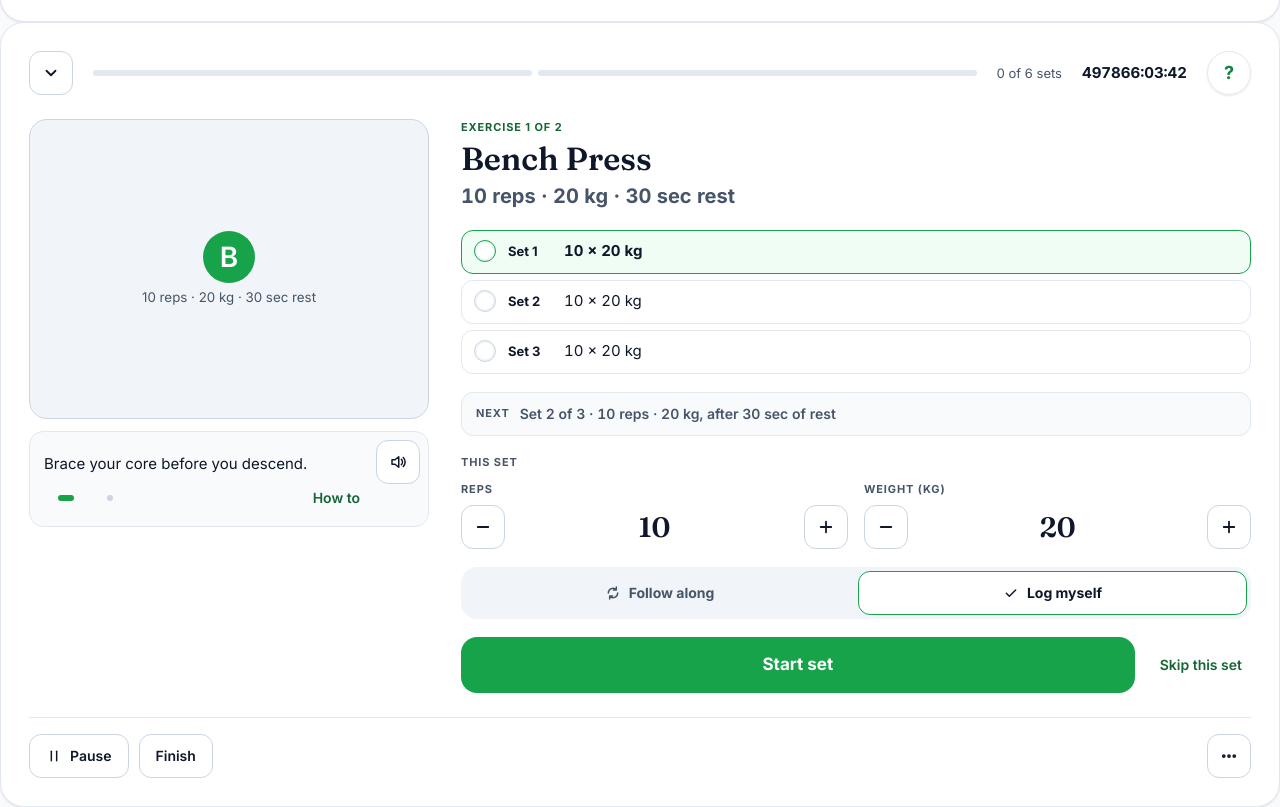
it: ExercisePlayerComponent › a session started from a weekly plan › working through the sets › counts three, two, one and Go after Start set, announcing each figure once, then the set is active
(page scrolled)
Click the button with class "start-set" below "Set 3". click: (798, 665)
box: [461,637,1135,693]
Wait 3400 ms
(page scrolled)
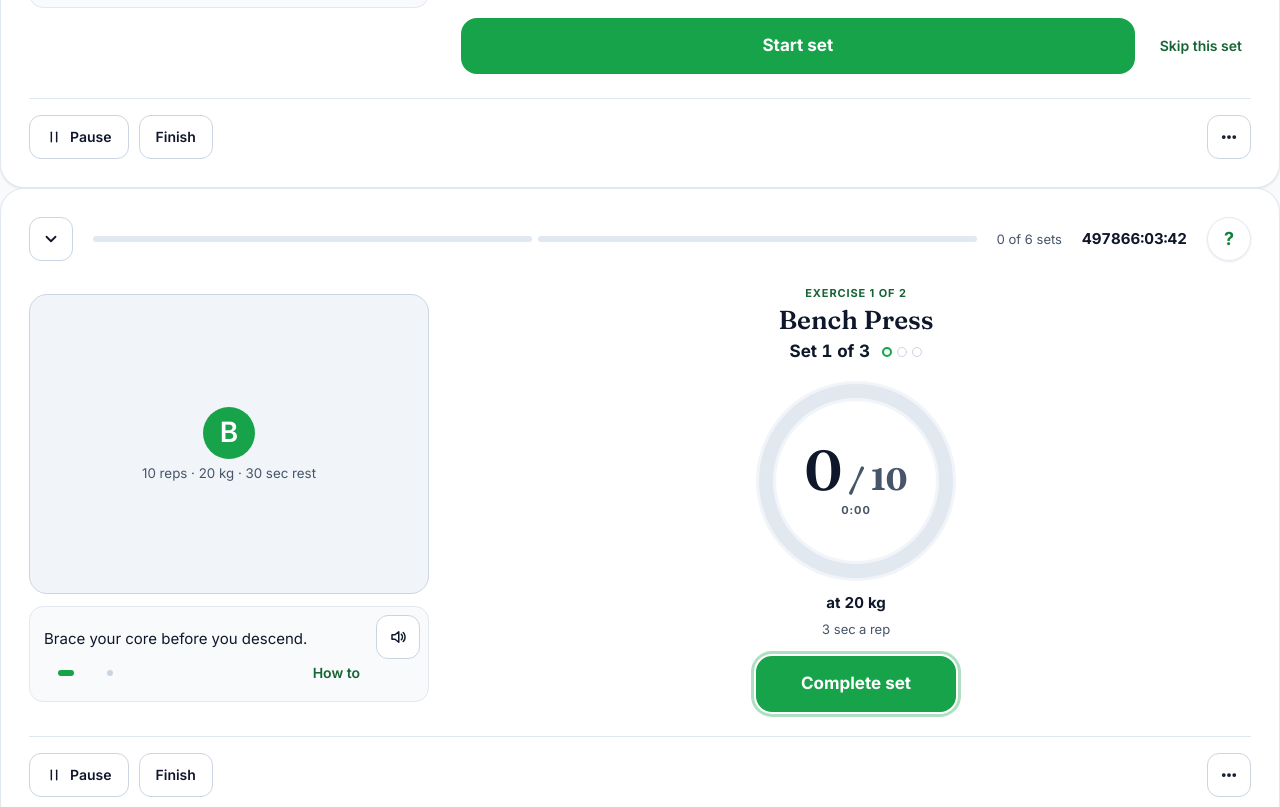
Expected: the button with class "complete-set" reads "Complete set", [756,656,956,712]
Expected: the element showing "0 / 10 0:00" is shown, [756,381,956,581]
Expected: the text with class "strong" reads "at 20 kg", [826,593,886,612]
